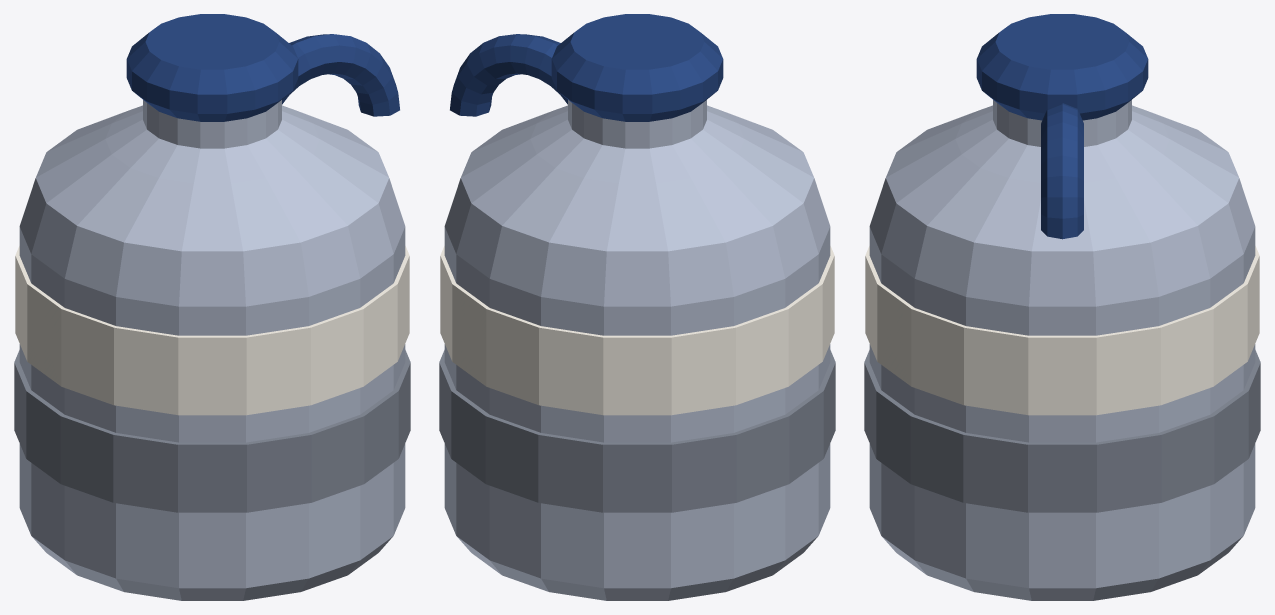
Rendered from gallon.glb.
The picture shows the model from 3 angles, left to right: view 1: azimuth 30°, elevation 25°; view 2: azimuth 150°, elevation 25°; view 3: azimuth 270°, elevation 25°; orthographic projection.
Visible parts, largest first — view 1: gallon; view 2: gallon; view 3: gallon.
Part boxes in pixels (box(x1,y1,x2,y2)): gallon: box(14, 14, 410, 600); gallon: box(439, 14, 835, 600); gallon: box(864, 14, 1260, 600).
Bounding box in the file's own units: 0.7644 × 1 × 0.74.
